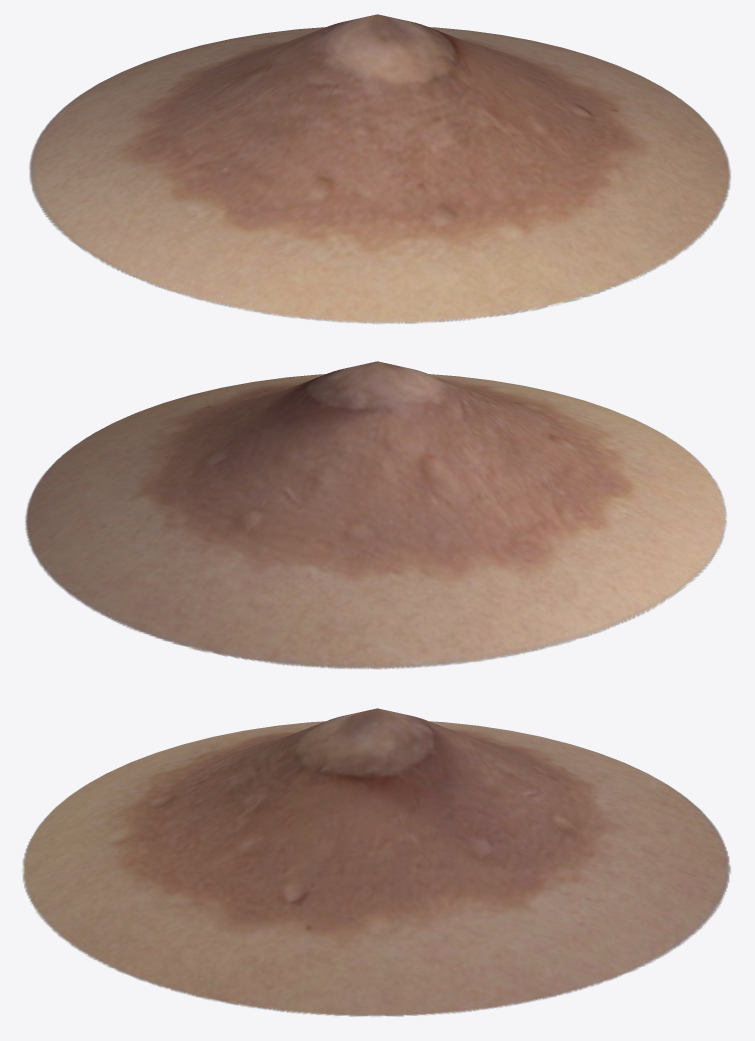
The model's file is nipple.glb.
3 views of the same model, one above another, from view 1: azimuth 30°, elevation 25°; view 2: azimuth 150°, elevation 25°; view 3: azimuth 270°, elevation 25° (orthographic).
Parts seen in each view (by area): view 1: Nipple; view 2: Nipple; view 3: Nipple.
Part boxes in pixels (x1,y1,x2,y2): Nipple: [29, 14, 730, 323]; Nipple: [25, 361, 726, 669]; Nipple: [22, 708, 730, 1016].
Bounding box in the file's own units: 0.18 × 0.045 × 0.18.
Materials: 1 (1 with a texture image).
